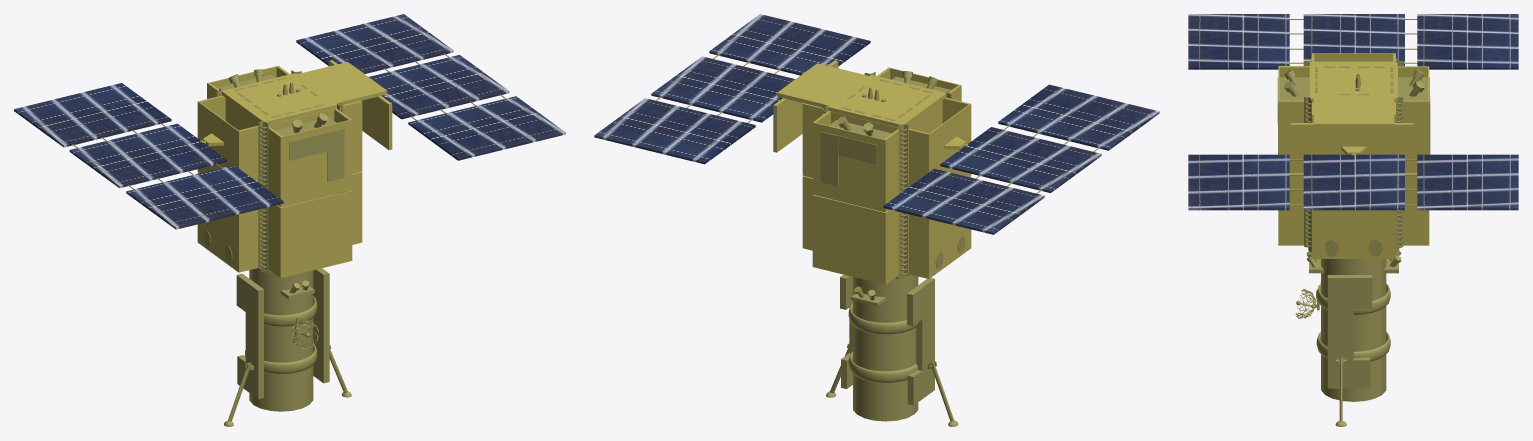
The model's file is satellitemodel_new.glb.
The picture shows the model from 3 angles, left to right: view 1: azimuth 30°, elevation 25°; view 2: azimuth 150°, elevation 25°; view 3: azimuth 270°, elevation 25°; orthographic projection. The views are drawn at different scales.
Parts seen in each view (by area): view 1: Rectangle005, 对象005, 对象006, 对象004, Cylinder039, Cylinder002; view 2: Rectangle005, 对象005, 对象006, 对象004, Cylinder039, Cylinder002; view 3: Rectangle005, 对象006, 对象005, 对象004, Cylinder002, Cylinder039, 可转圆底.
Part boxes in pixels (x1,y1,x2,y2): Rectangle005: (197,60,392,277); 对象005: (14,83,283,229); 对象006: (296,14,565,160); 对象004: (224,268,351,426); Cylinder039: (217,75,344,181); Cylinder002: (203,70,343,270); Rectangle005: (773,60,971,284); 对象005: (883,84,1159,234); 对象006: (594,14,870,164); 对象004: (826,274,958,426); Cylinder039: (820,76,951,186); Cylinder002: (822,72,965,276); Rectangle005: (1278,53,1429,258); 对象006: (1188,154,1518,210); 对象005: (1188,14,1518,69); 对象004: (1306,247,1401,426); Cylinder002: (1303,58,1403,256); Cylinder039: (1277,77,1430,154); 可转圆底: (1295,288,1316,318).
Size of the model in its own units: 170 by 133 by 122.
3 materials, 1 textured.
